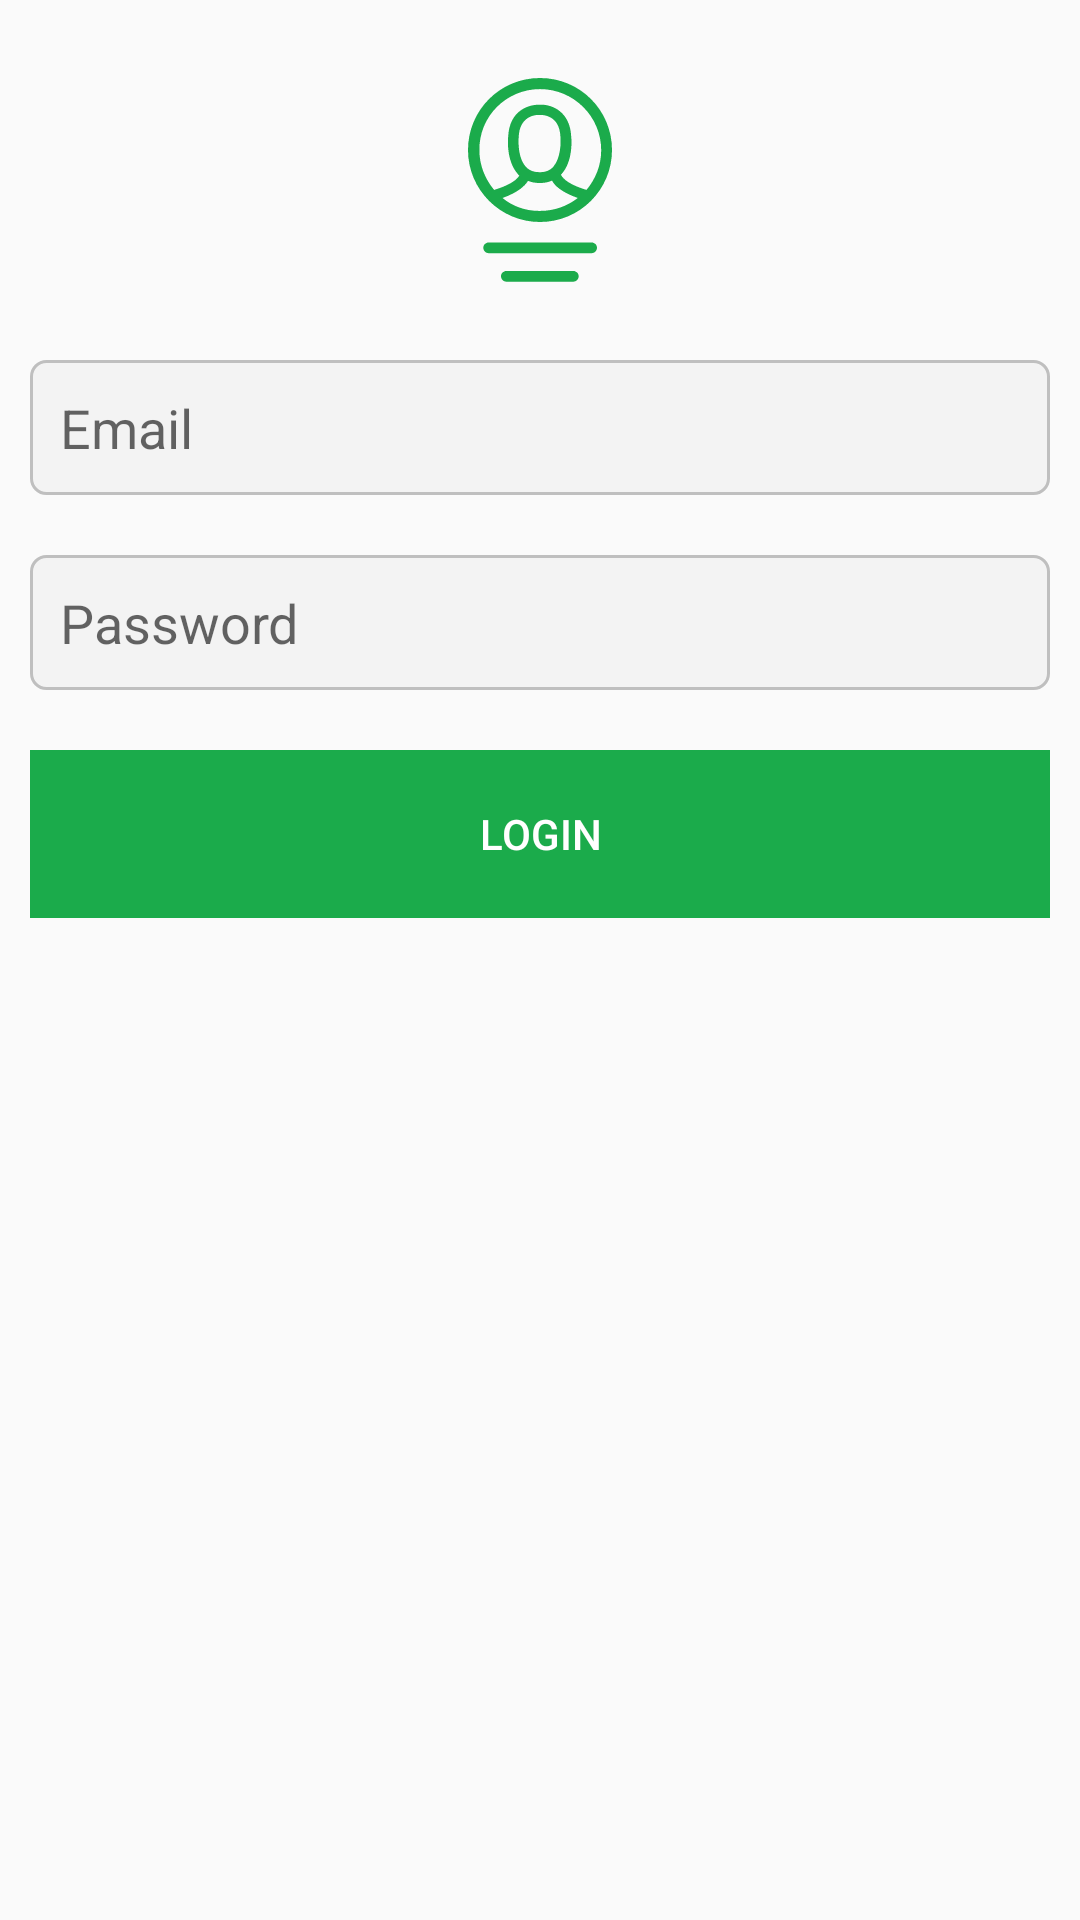

Icon bounding boxes for this 1080px x 1920px phone screenshot, format (x1, y1, x2, y2):
login: (468, 78, 612, 282)
